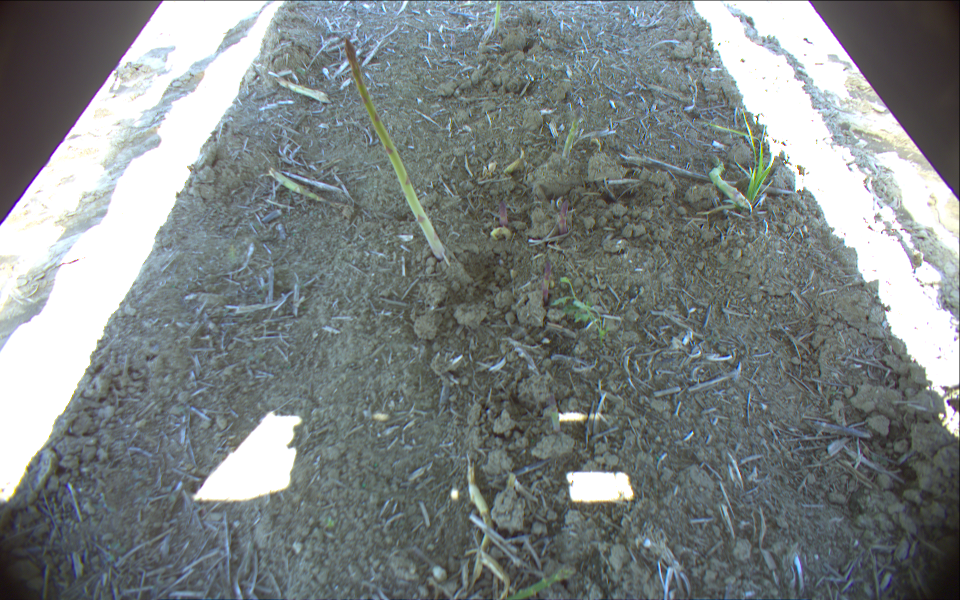aspa: (340, 38, 448, 267)
